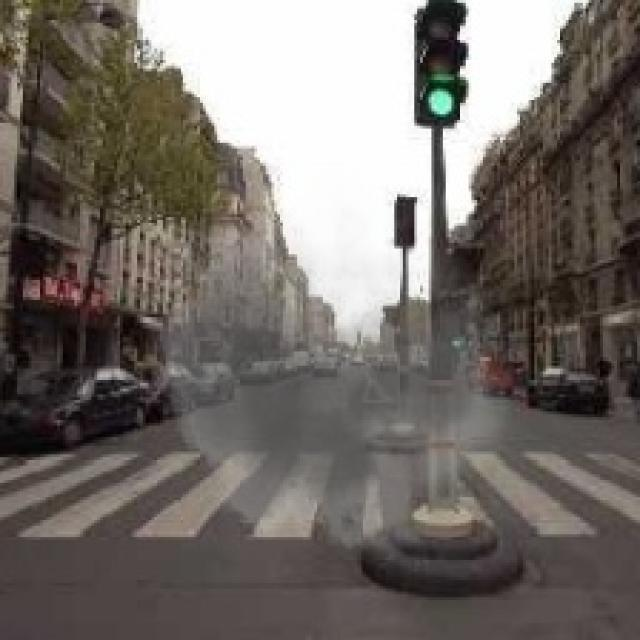Smoke: (134, 163, 517, 572)
